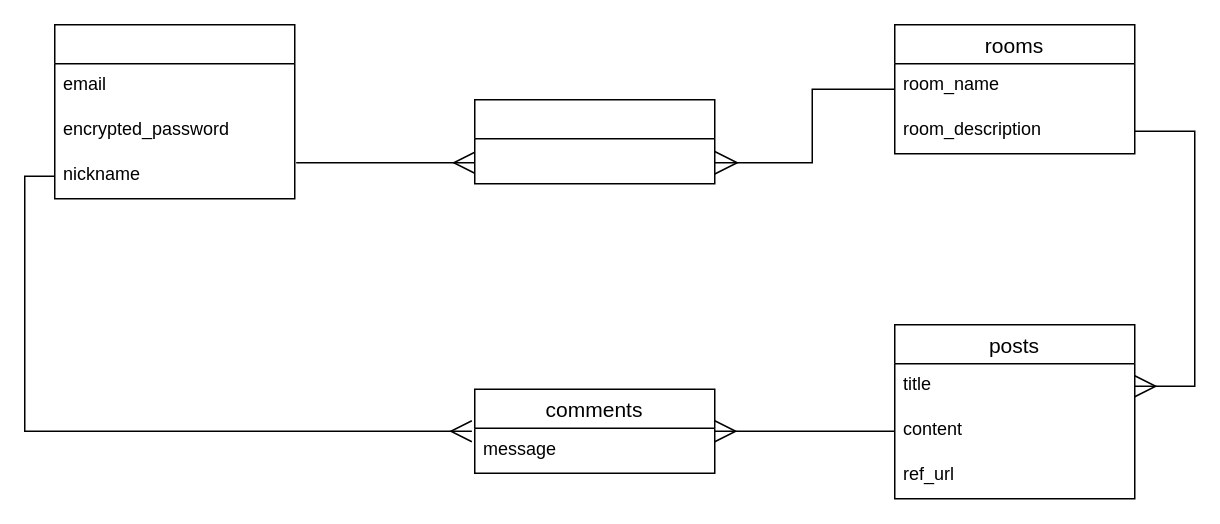
Some shapes in this 1220 by 524 pixel diagram are drawn without their labels. Here are the shapes that lost their labels. From the top down, the box of each, then its label:
(53, 23, 295, 199): users
(473, 98, 715, 184): room_users
